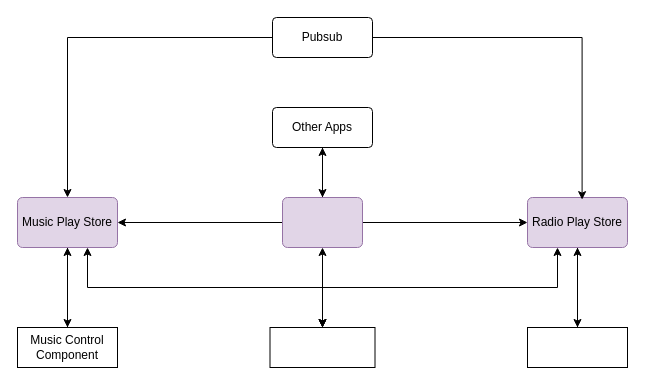
The diagram is 645 pixels wide and 385 high, and some of its shapes have lost their labels. Here are the shapes that lost their labels. From the top down, the centre of each, then its label:
At [322,222]: "Background Play Store".
At [322,347]: "CoWin Background Player".
At [577,347]: "Radio Control Component".
